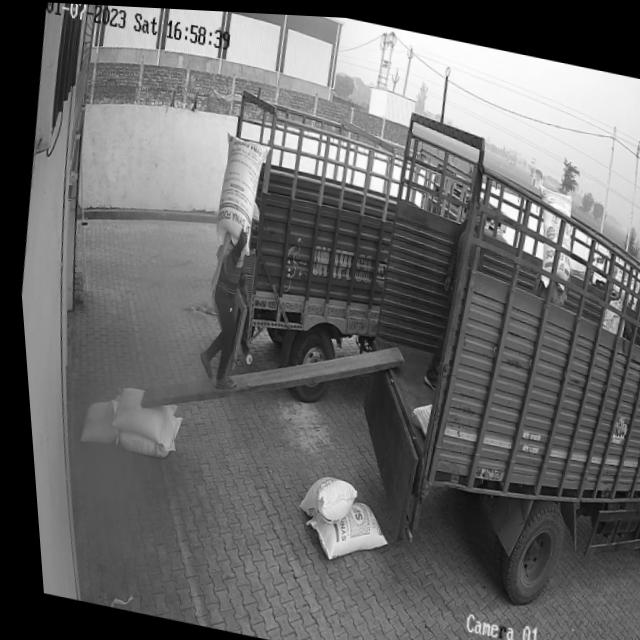sack: (204, 128, 275, 257), (293, 487, 386, 566), (100, 382, 175, 447), (106, 402, 179, 461), (288, 467, 354, 527), (68, 393, 117, 449)
